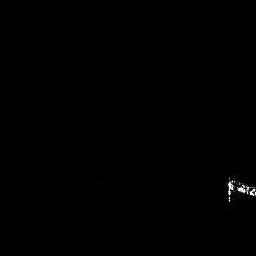ship: (223, 172, 256, 205)
